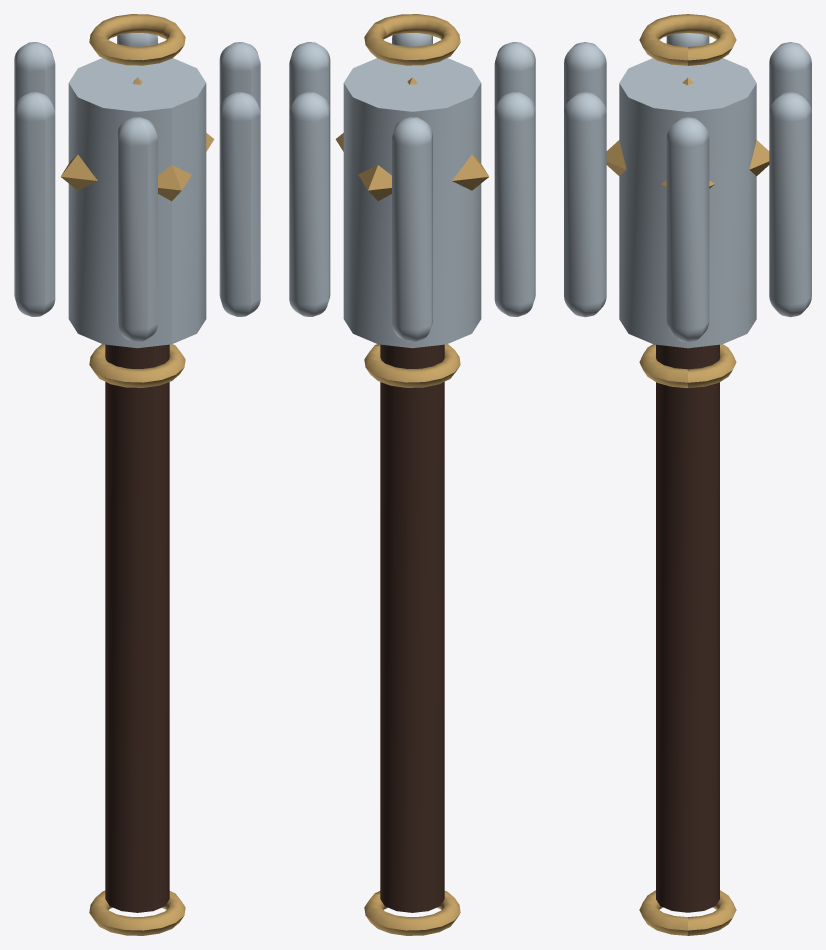
Rendered from mace.glb.
The picture shows the model from 3 angles, left to right: view 1: azimuth 30°, elevation 25°; view 2: azimuth 150°, elevation 25°; view 3: azimuth 270°, elevation 25°; orthographic projection.
Visible parts, largest first — view 1: mace_metal, mace_wood, mace_gold; view 2: mace_metal, mace_wood, mace_gold; view 3: mace_metal, mace_wood, mace_gold.
Boxes of the visible parts, left/top/right/bottom form: mace_metal: left=14, top=33, right=260, bottom=348; mace_wood: left=105, top=344, right=169, bottom=912; mace_gold: left=60, top=14, right=214, bottom=935; mace_metal: left=289, top=33, right=535, bottom=348; mace_wood: left=380, top=344, right=444, bottom=912; mace_gold: left=335, top=14, right=489, bottom=935; mace_metal: left=564, top=33, right=811, bottom=348; mace_wood: left=656, top=344, right=719, bottom=912; mace_gold: left=606, top=14, right=769, bottom=935.
Bounding box in the file's own units: 0.236 × 0.8239 × 0.2092.
